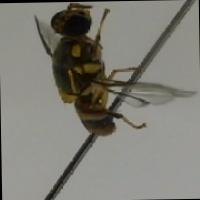Oriental-fruit-fly: (20, 0, 193, 150)
